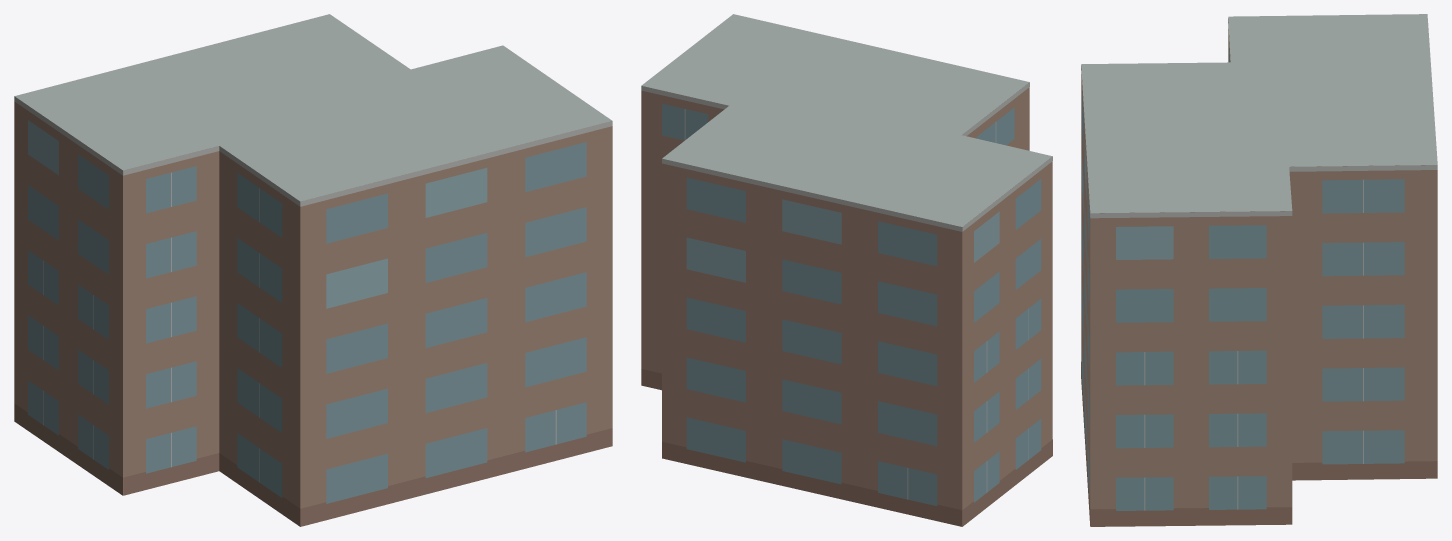
Rendered from survey-upis-32839708.glb.
3 views of the same model, side by side, from view 1: azimuth 30°, elevation 25°; view 2: azimuth 150°, elevation 25°; view 3: azimuth 270°, elevation 25° (orthographic). The views are drawn at different scales.
Visible parts, largest first — view 1: survey-upis-32839708.tmp; view 2: survey-upis-32839708.tmp; view 3: survey-upis-32839708.tmp.
Boxes of the visible parts, box(x1,y1,x2,y2) form: survey-upis-32839708.tmp: box(14, 14, 612, 526); survey-upis-32839708.tmp: box(641, 14, 1052, 526); survey-upis-32839708.tmp: box(1081, 14, 1437, 526).
Size of the model in its own units: 20.78 by 15.25 by 15.72.
